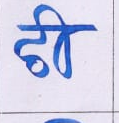i_matra: (42, 5, 76, 79)
